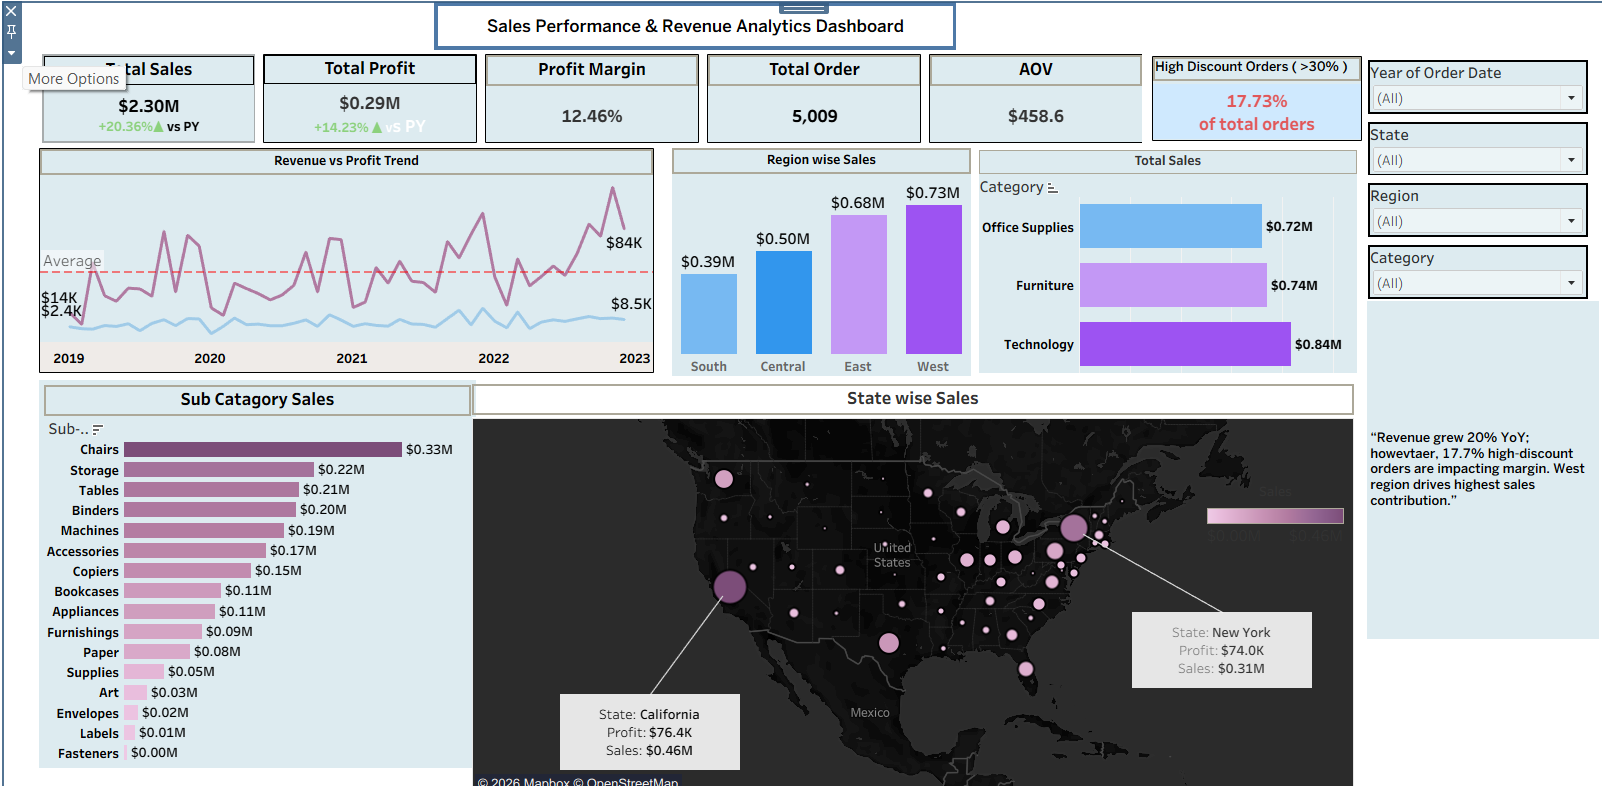

The dashboard page shown, as its layout file describes it:
{"tool":"tableau","page":{"name":"Dashboard 3","canvas":[1000,1000],"units":"permille","ordinal":2},"visuals":[{"type":"text","box":[270.7,8.7,323.3,59.9]},{"type":"worksheet","title":"Total Sales","mark":"Automatic","box":[25.8,68.7,137.1,121.1]},{"type":"worksheet","title":"Total Profit","mark":"Automatic","box":[162.9,68.7,137.1,121.1]},{"type":"worksheet","title":"Profit Margin","mark":"Automatic","box":[300,68.7,137.1,121.1]},{"type":"worksheet","title":"Total Order","mark":"Automatic","box":[437.1,68.7,137.1,121.1]},{"type":"worksheet","title":"AOV","mark":"Automatic","box":[574.2,68.7,137.1,121.1]},{"type":"worksheet","title":"% Orders > 30% Discount","mark":"Automatic","box":[711.4,68.7,137.1,121.1]},{"type":"filter","title":"Revenue vs Profit Trend","param":"[federated.0y5goyd1ji2ecs148957d0y6frqr].[yr:Order Date:ok]","box":[846,76.2,141,77.1]},{"type":"filter","title":"Top 10 Customers","param":"[federated.0y5goyd1ji2ecs148957d0y6frqr].[none:State:nk]","box":[846,153.2,141,77.1]},{"type":"worksheet","title":"Revenue vs Profit Trend","mark":"Line","rows":["Sales","Profit"],"cols":["Order Date"],"box":[26.6,191,380.1,280.9]},{"type":"worksheet","title":"Region wise Sales","mark":"Automatic","rows":["Sales"],"cols":["Region"],"box":[418.1,191,184.9,284.6]},{"type":"worksheet","title":"sales by catagory","mark":"Automatic","rows":["Category"],"cols":["Sales"],"box":[607.9,193.5,233.8,278.4]},{"type":"filter","title":"Region wise Sales","param":"[federated.0y5goyd1ji2ecs148957d0y6frqr].[none:Region:nk]","box":[846,230.3,141,77.1]},{"type":"filter","title":"sales by catagory","param":"[federated.0y5goyd1ji2ecs148957d0y6frqr].[none:Category:nk]","box":[846,307.4,141,77.1]},{"type":"text","box":[847.9,382,143.5,422]},{"type":"worksheet","title":"subcatagory","mark":"Bar","rows":["Sub-Category"],"cols":["Sales"],"box":[26.6,480.7,270.1,484.4]},{"type":"worksheet","title":"Top 10 Customers","mark":"Automatic","box":[294.7,485.6,545.4,511.9]},{"type":"legend","title":"Top 10 Customers","param":"[federated.0y5goyd1ji2ecs148957d0y6frqr].[sum:Sales:qk]","box":[746.3,608,89.6,111.1]}]}

Visuals, with their boxes on the dashboard's canvas, which has no fixed pixel size, in thousandths of its width and height (x1, y1, x2, y2). These are canvas units, not pixel positions in the 1602x786 screenshot, which may show the page scaled, cropped or inside an application window:
text: region(271, 9, 594, 69)
"Total Sales" worksheet: region(26, 69, 163, 190)
"Total Profit" worksheet: region(163, 69, 300, 190)
"Profit Margin" worksheet: region(300, 69, 437, 190)
"Total Order" worksheet: region(437, 69, 574, 190)
"AOV" worksheet: region(574, 69, 711, 190)
"% Orders > 30% Discount" worksheet: region(711, 69, 848, 190)
"Revenue vs Profit Trend" filter: region(846, 76, 987, 153)
"Top 10 Customers" filter: region(846, 153, 987, 230)
"Revenue vs Profit Trend" worksheet (Line marks): region(27, 191, 407, 472)
"Region wise Sales" worksheet: region(418, 191, 603, 476)
"sales by catagory" worksheet: region(608, 194, 842, 472)
"Region wise Sales" filter: region(846, 230, 987, 307)
"sales by catagory" filter: region(846, 307, 987, 384)
text: region(848, 382, 991, 804)
"subcatagory" worksheet (Bar marks): region(27, 481, 297, 965)
"Top 10 Customers" worksheet: region(295, 486, 840, 998)
"Top 10 Customers" legend: region(746, 608, 836, 719)
